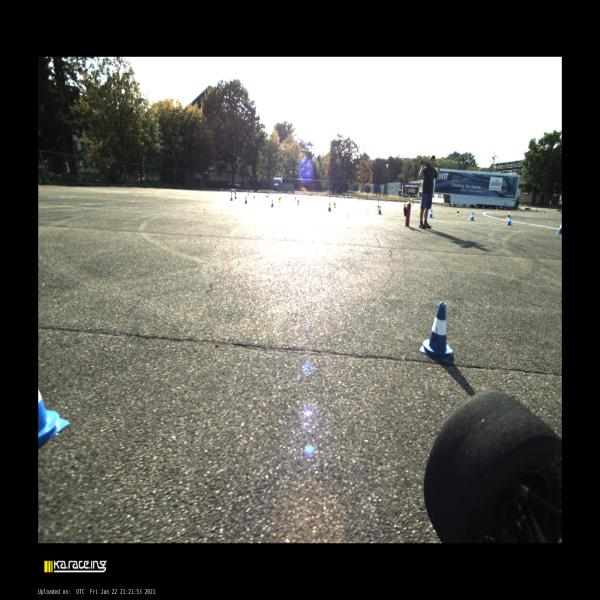blue_cone: (419, 302, 453, 361), (556, 225, 562, 234), (507, 216, 512, 225), (470, 212, 474, 221), (429, 209, 433, 218), (378, 206, 382, 214), (244, 197, 248, 204), (329, 203, 332, 212), (271, 200, 274, 208), (230, 194, 233, 200), (444, 203, 446, 207), (536, 208, 538, 212), (253, 194, 255, 198), (267, 194, 269, 198), (235, 194, 236, 199), (504, 208, 506, 210), (560, 210, 561, 213), (248, 192, 249, 195), (266, 194, 267, 197)
yellow_cone: (455, 209, 460, 216), (334, 201, 336, 208), (297, 200, 299, 205), (278, 198, 280, 202), (543, 209, 545, 213), (518, 208, 520, 212), (466, 205, 468, 209), (496, 207, 498, 210), (258, 191, 259, 195), (270, 192, 271, 196), (295, 197, 296, 200)
